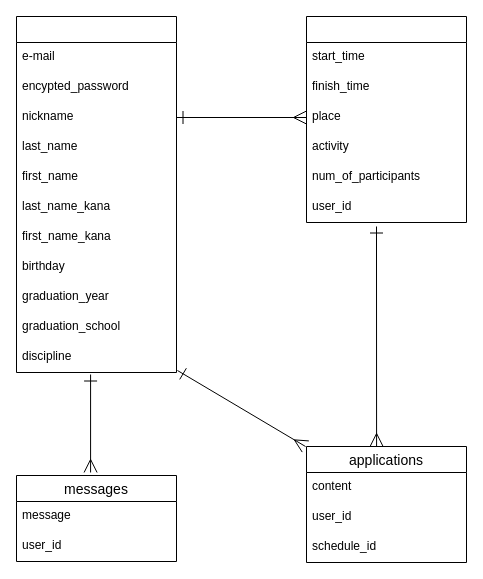
This 483x579 diagram has some shape labels left out. Each missing label, with the box of its shape:
schedules: (306, 16, 466, 222)
users: (16, 16, 176, 372)
